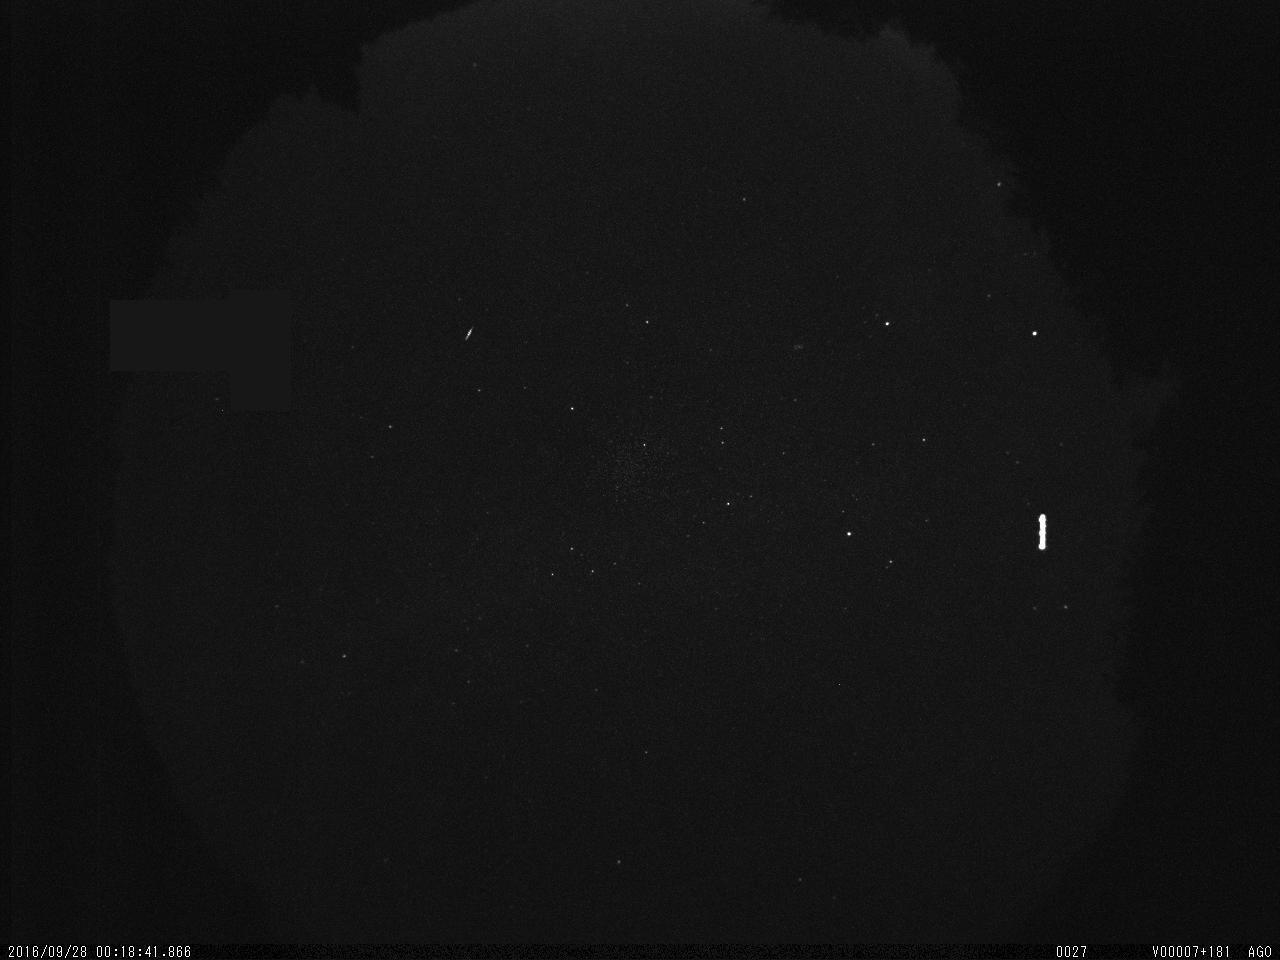meteor: (459, 322, 477, 349)
satelite: (1033, 504, 1054, 560)
